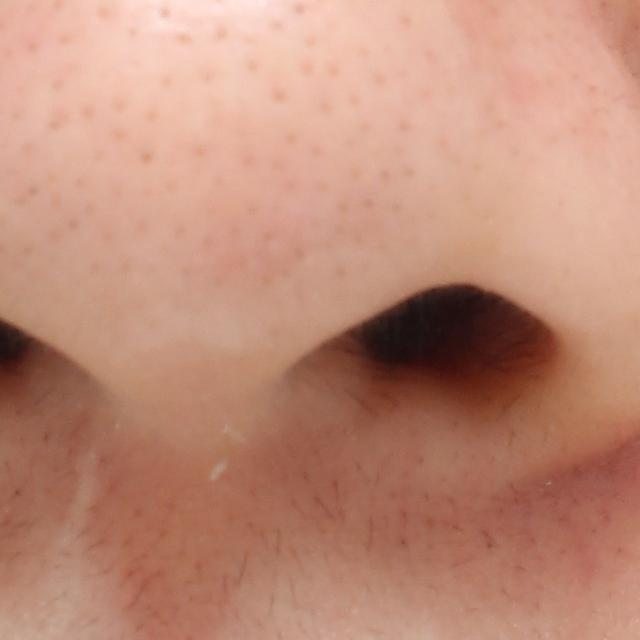other: (48, 442, 109, 570)
